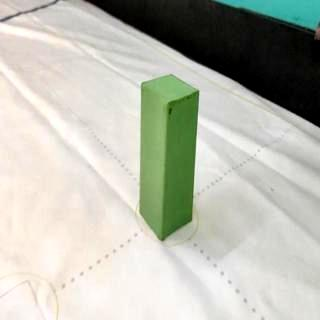greenbox: (140, 72, 200, 239)
